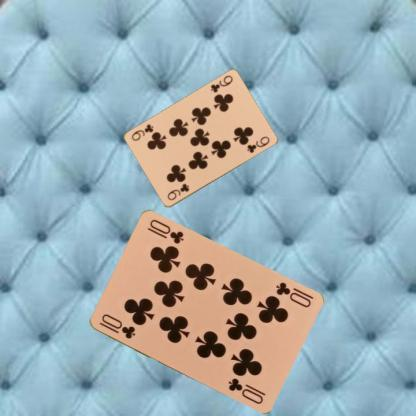10c: (96, 311, 137, 340), (273, 280, 312, 309)
9c: (164, 181, 190, 202), (208, 73, 234, 94)
